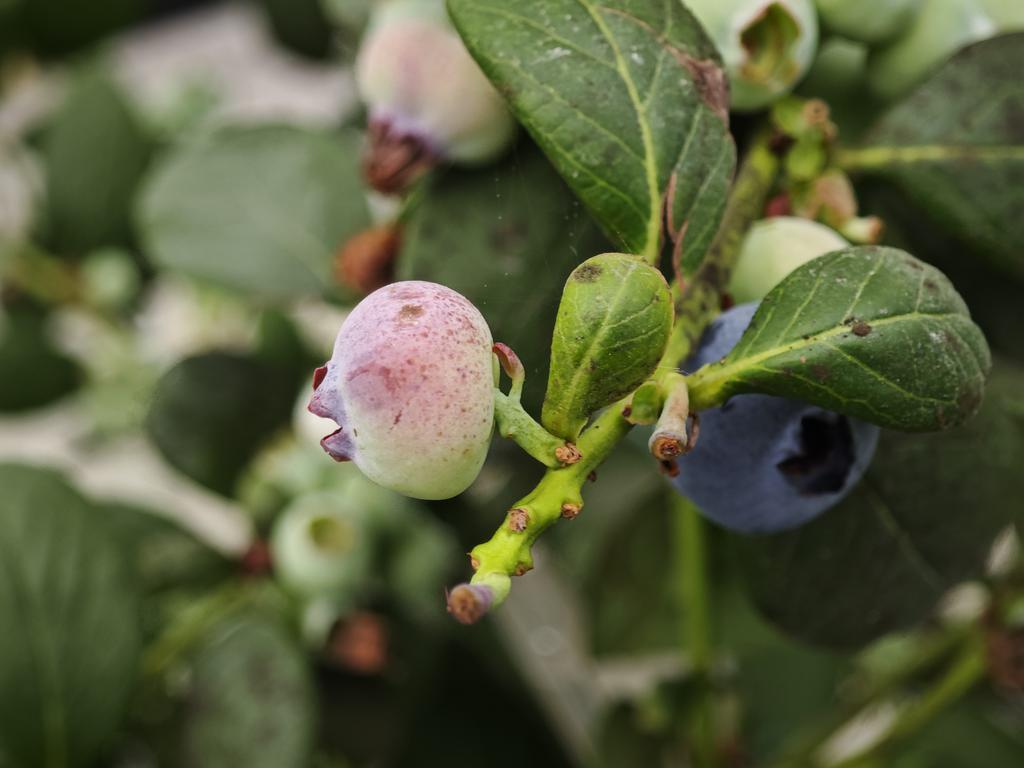Semi-RipeBlueBerry: (317, 280, 492, 504)
